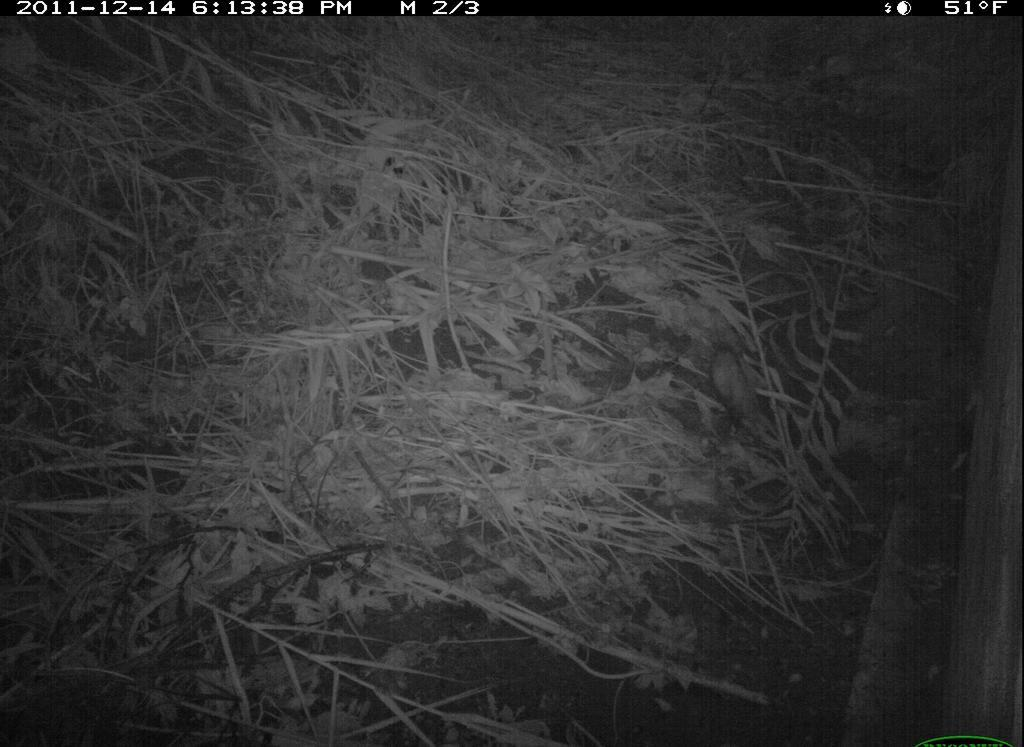opossum: (693, 321, 783, 461)
